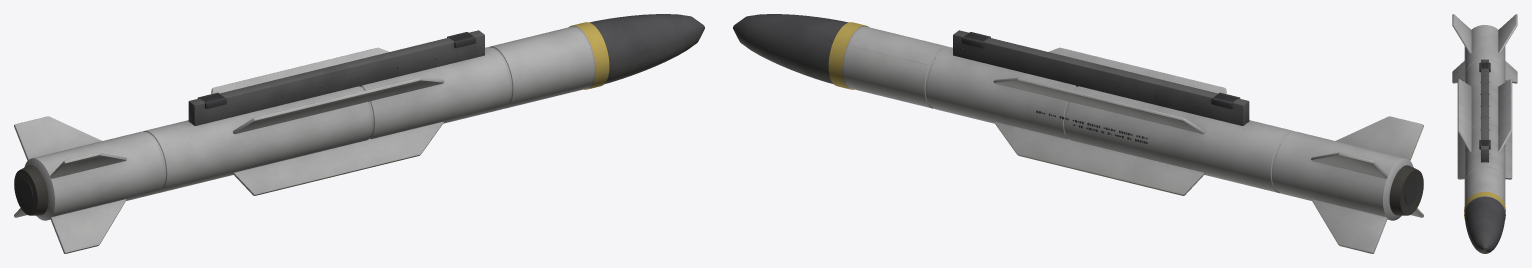
Rendered from arm_1.glb.
3 views of the same model, side by side, from view 1: azimuth 30°, elevation 25°; view 2: azimuth 150°, elevation 25°; view 3: azimuth 270°, elevation 25° (orthographic). The views are drawn at different scales.
Visible parts, largest first — view 1: arm_1; view 2: arm_1; view 3: arm_1.
Boxes of the visible parts, x1,y1,x2,y2 form: arm_1: [14, 14, 704, 253]; arm_1: [733, 14, 1423, 253]; arm_1: [1452, 14, 1517, 253].
Bounding box in the file's own units: 0.979 × 0.1325 × 0.1291.
Materials: 7 (7 with a texture image).
